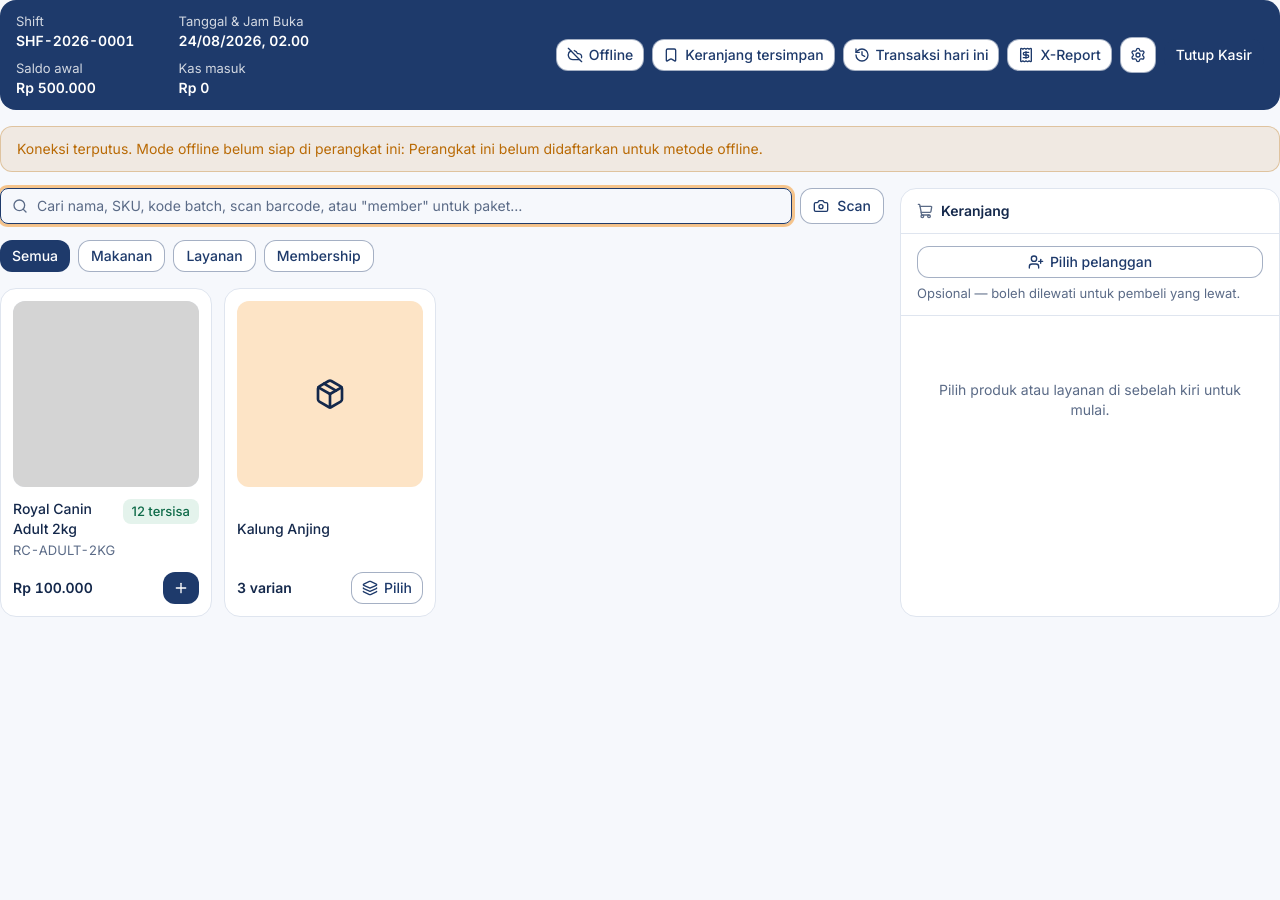
Scenario: PosScreen — a discount above the cashier's limit (FR-4) › asks for an approver instead of reporting a failure
Step 1. Click the button named "tambah royal canin" → {"x": 181, "y": 588}, box [163,572,199,604]
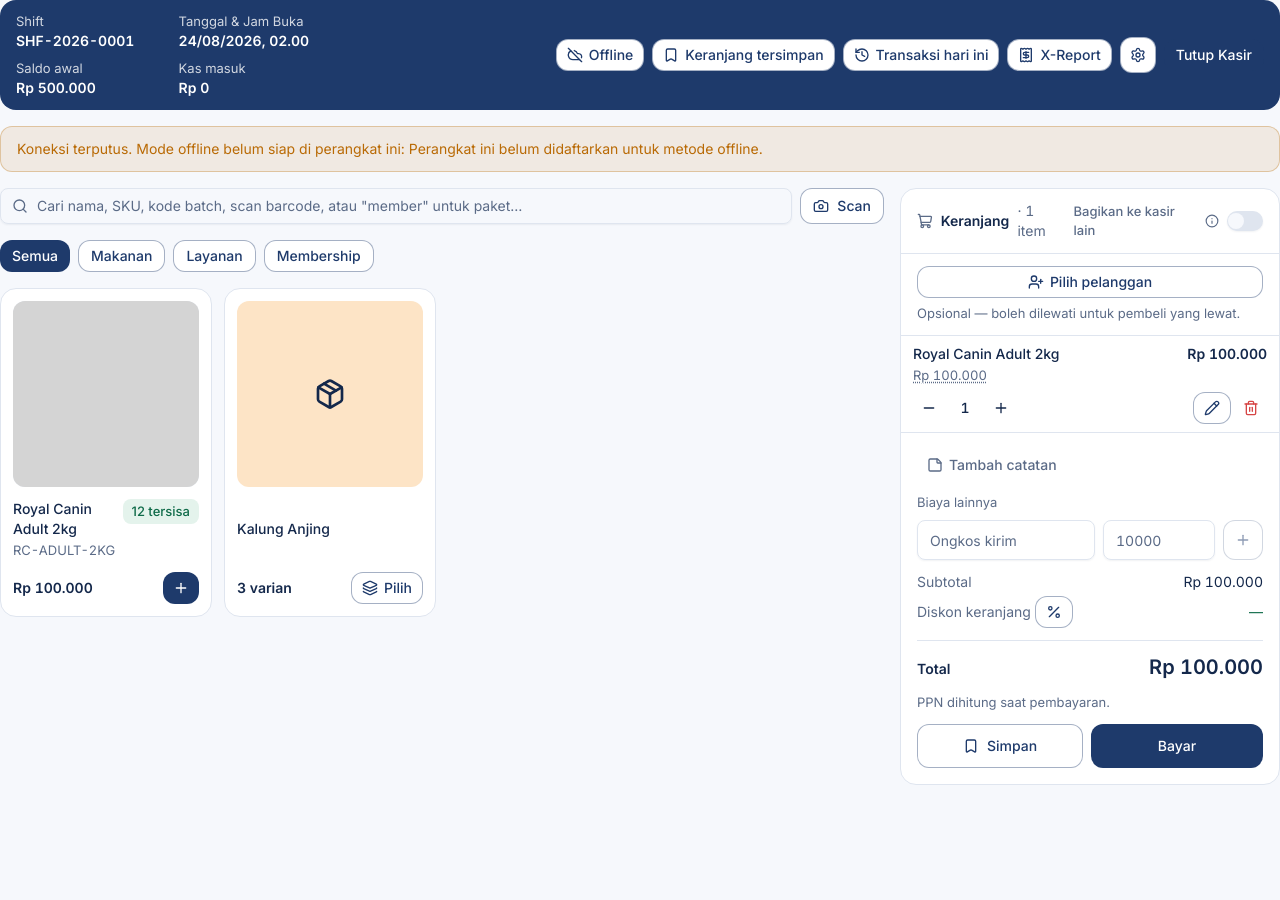
Now the 1st text "Royal Canin Adult 2kg" is shown, box [913,344,1060,364]
Step 2. Click the button named "diskon keranjang" → {"x": 1054, "y": 612}, box [1035,596,1073,628]
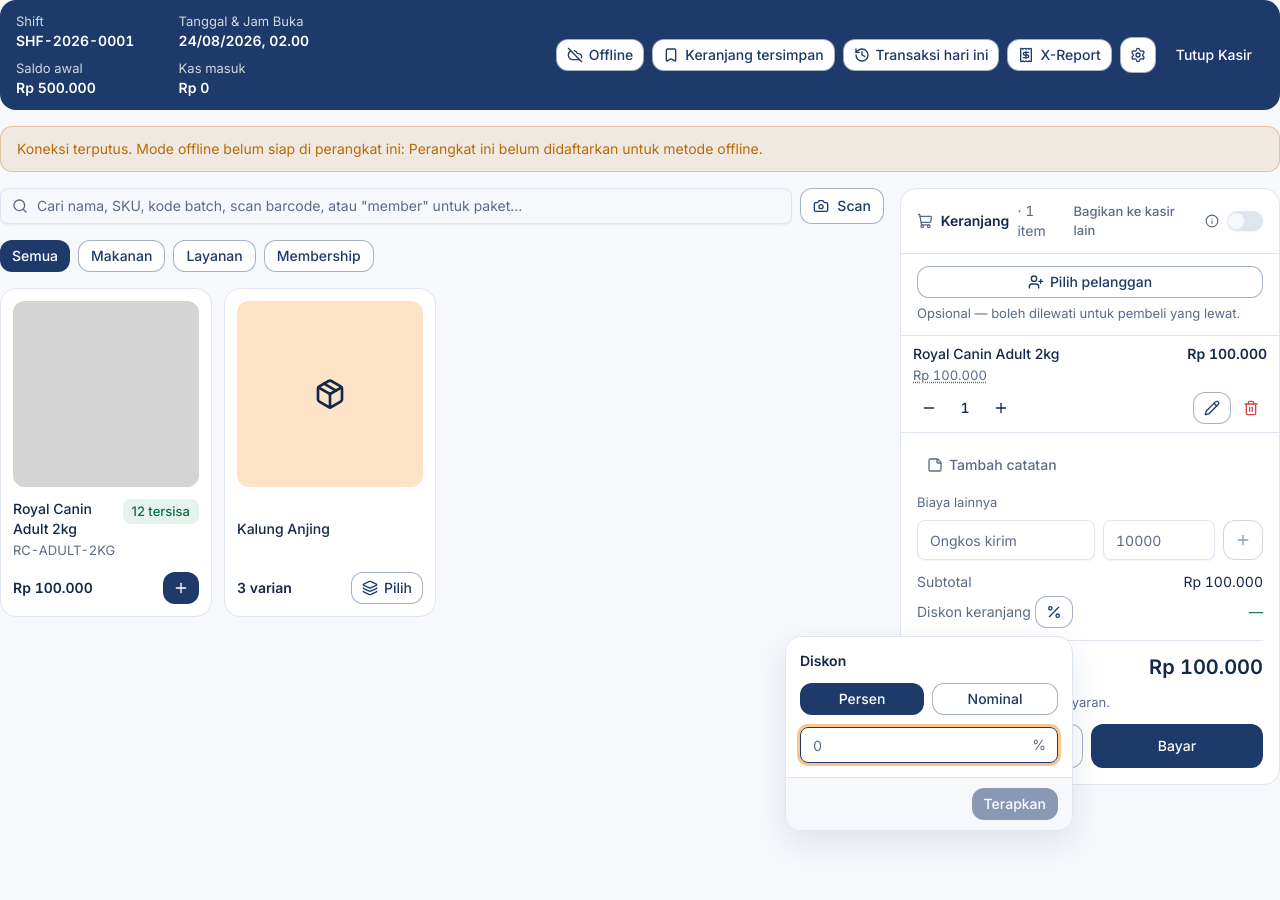
Step 3. Type "20" into the field named "diskon persen" → {"x": 929, "y": 745}, box [800,727,1058,763]
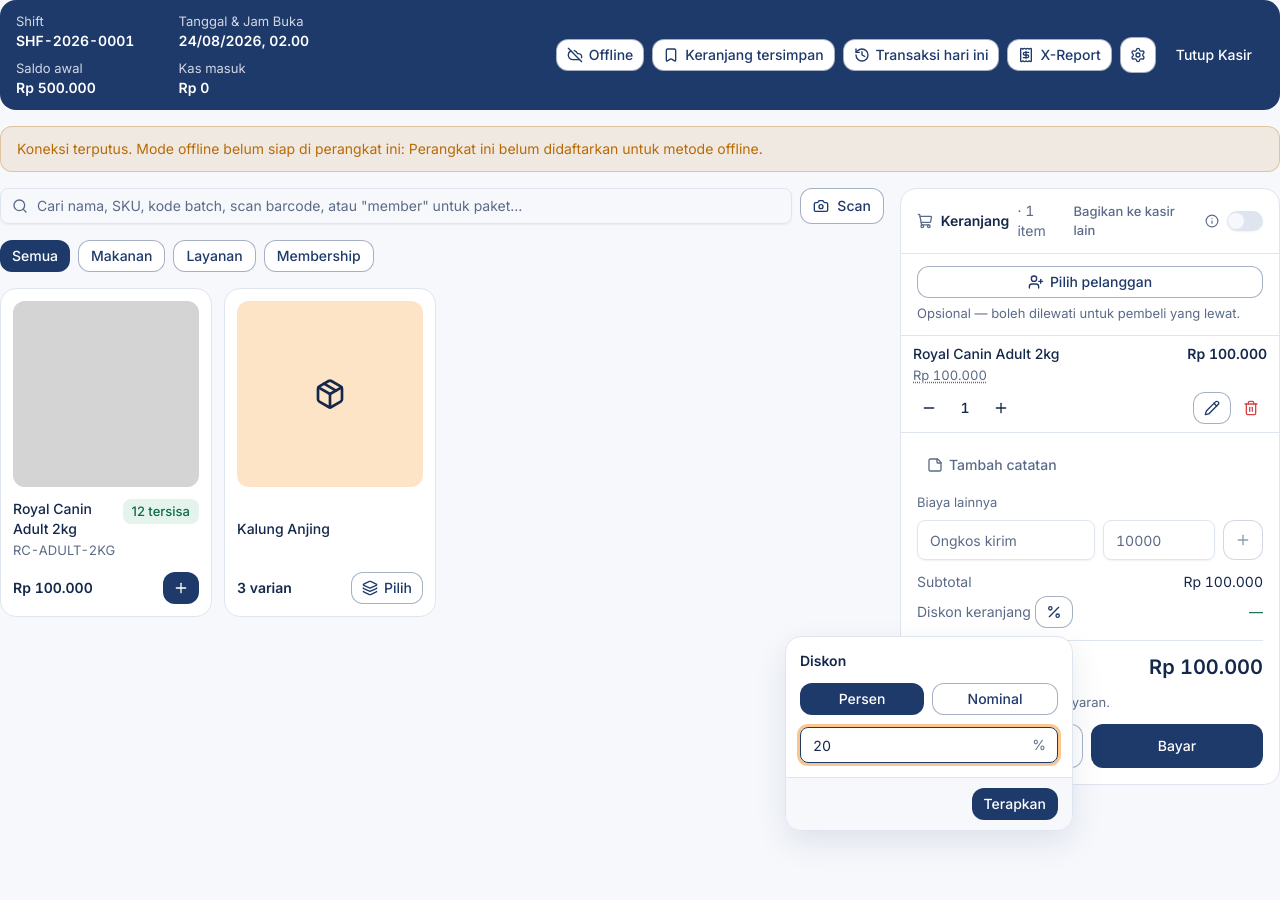
Step 4. Click the button "Terapkan" → {"x": 1015, "y": 804}, box [972,788,1058,820]
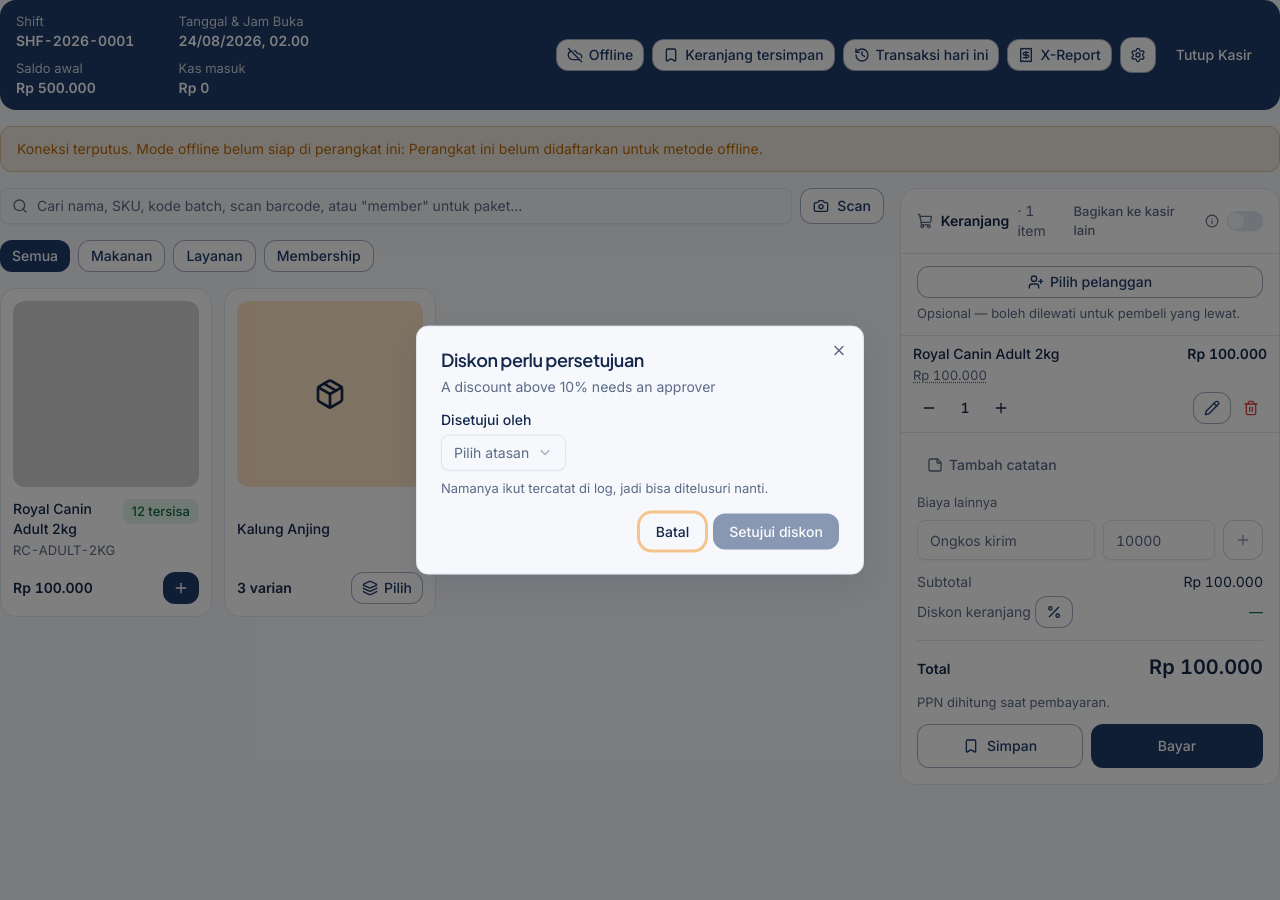
Now the heading "Diskon perlu persetujuan" is shown, box [441,348,644,371]
